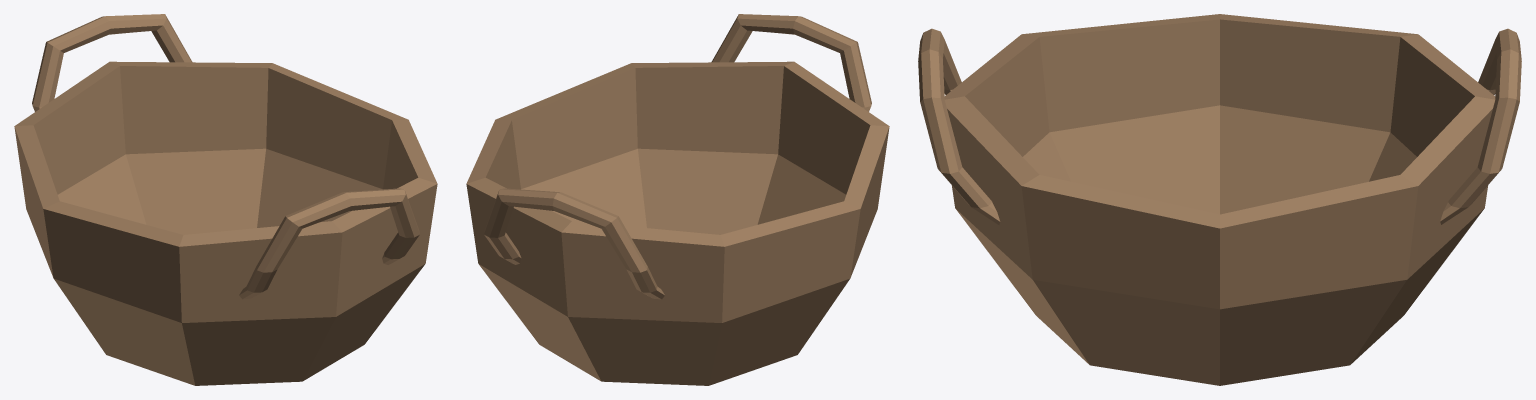
File: kosz_2.fbx
The picture shows the model from 3 angles, left to right: view 1: azimuth 30°, elevation 25°; view 2: azimuth 150°, elevation 25°; view 3: azimuth 270°, elevation 25°; orthographic projection. The views are drawn at different scales.
Parts seen in each view (by area): view 1: Cylinder.001; view 2: Cylinder.001; view 3: Cylinder.001.
Boxes of the visible parts, x1,y1,x2,y2 form: Cylinder.001: (14,14,437,385); Cylinder.001: (466,14,889,385); Cylinder.001: (918,14,1521,385).
Bounding box in the file's own units: 613 × 355 × 729.
